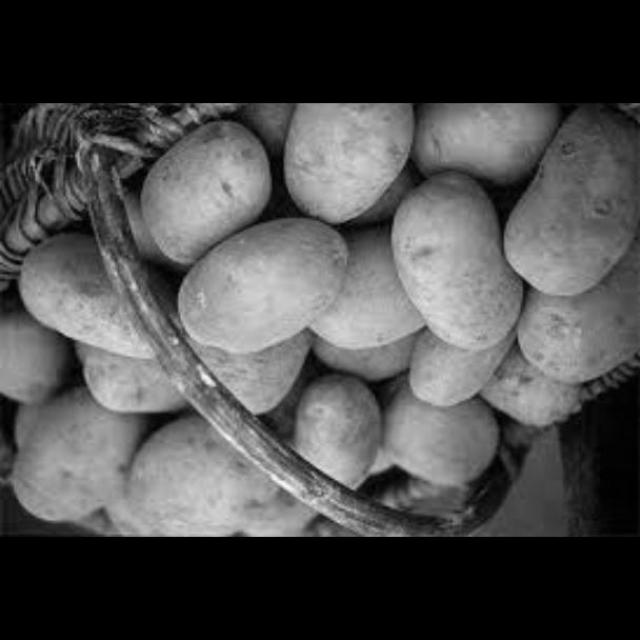khoai tay: (170, 212, 372, 361), (500, 105, 640, 308), (398, 172, 524, 365), (11, 239, 181, 372), (15, 390, 170, 530), (143, 126, 278, 276), (288, 105, 417, 236), (304, 241, 441, 353), (276, 382, 391, 515), (399, 105, 572, 192), (126, 442, 276, 538), (184, 330, 330, 428), (513, 285, 639, 391), (375, 386, 503, 489), (401, 318, 522, 417), (479, 352, 586, 446)
